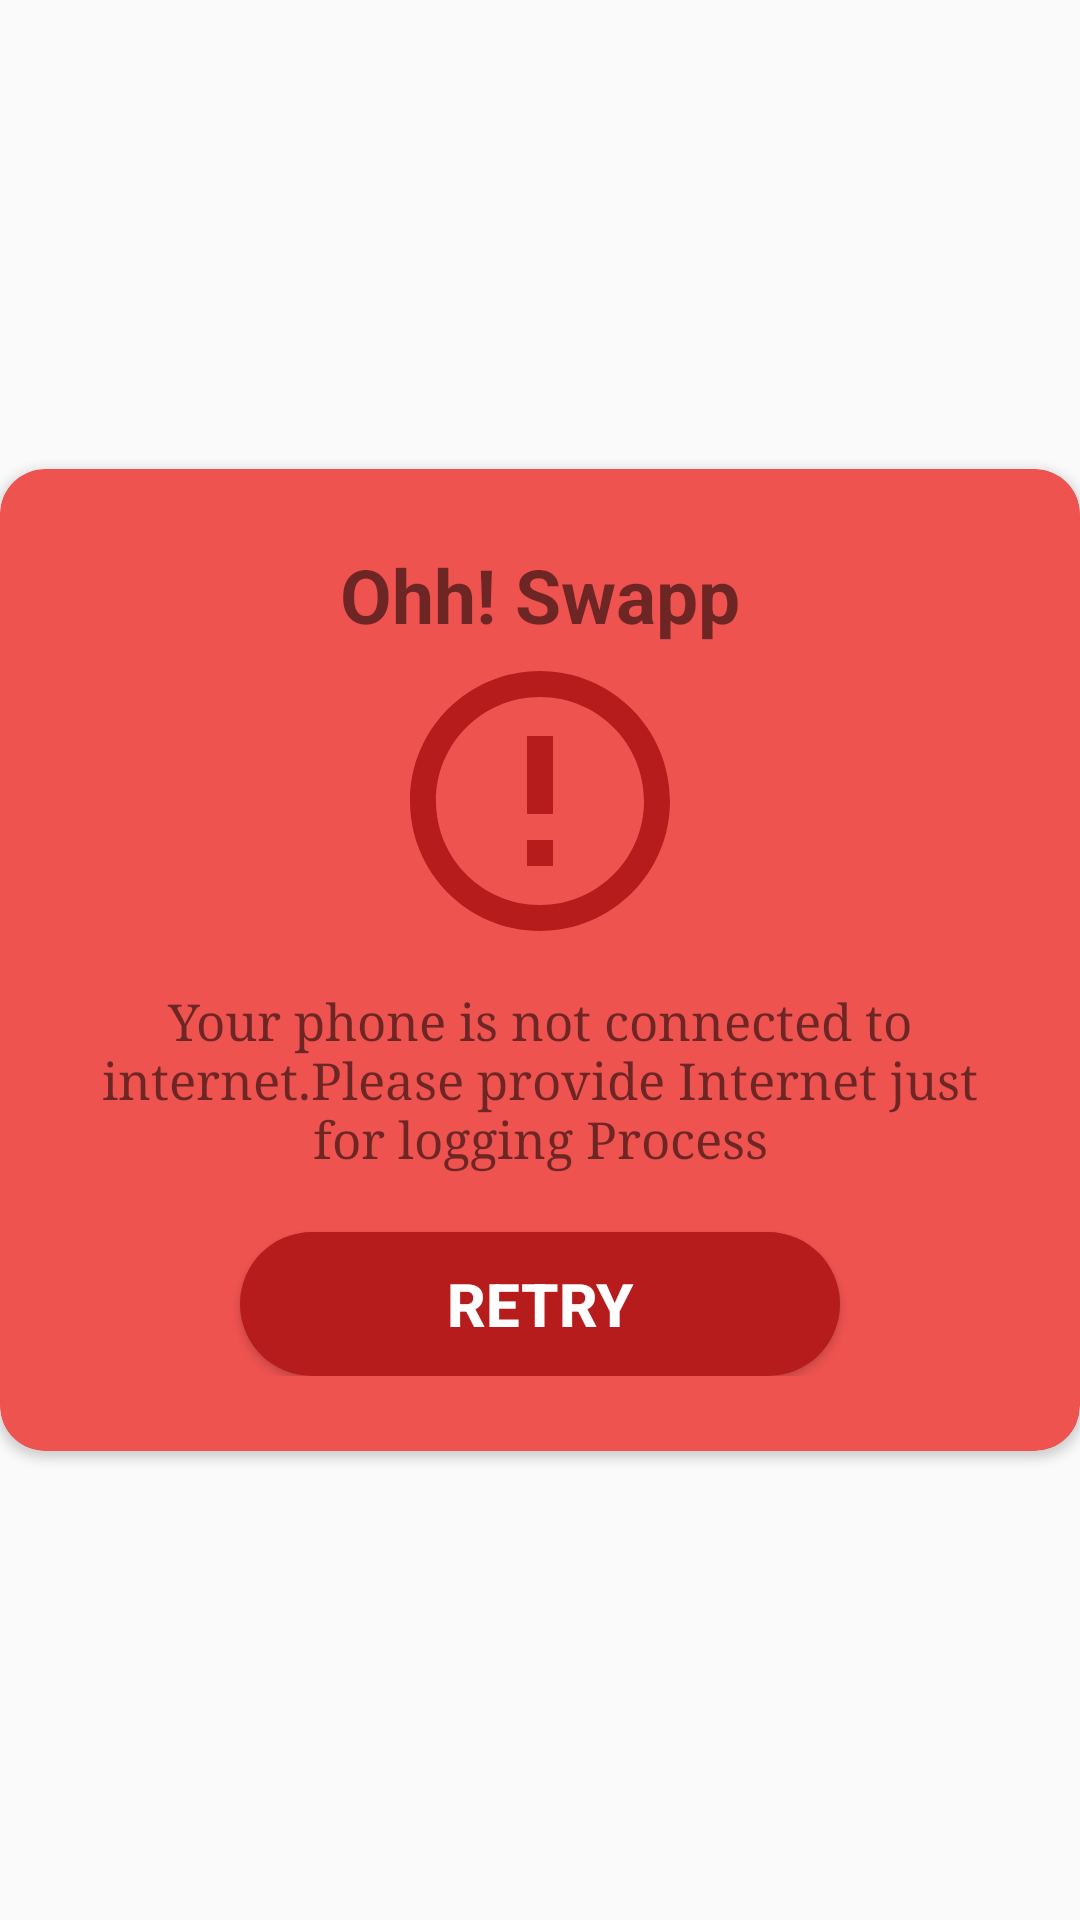

Named icons in this screenshot (1080 x 1920) and their centers, point (x, y):
error: point (540, 801)
